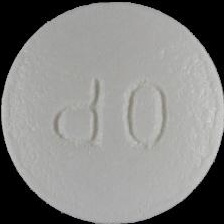0093-5731: (0, 0, 224, 224)
